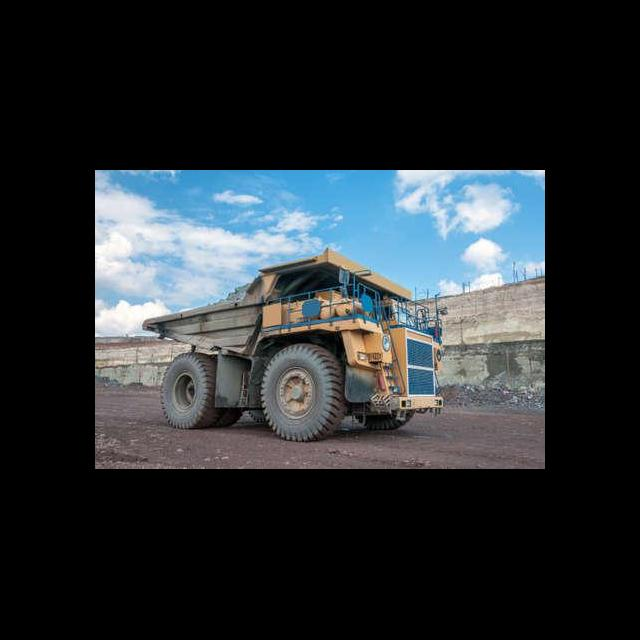dump truck: (142, 245, 447, 444)
